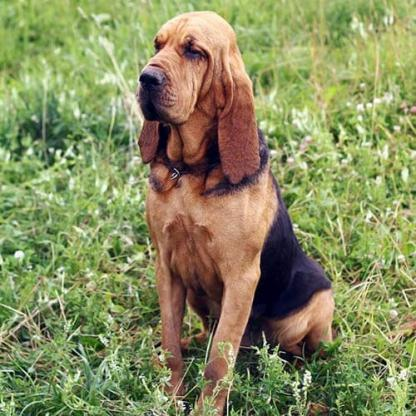Bloodhound: (122, 8, 346, 412)
